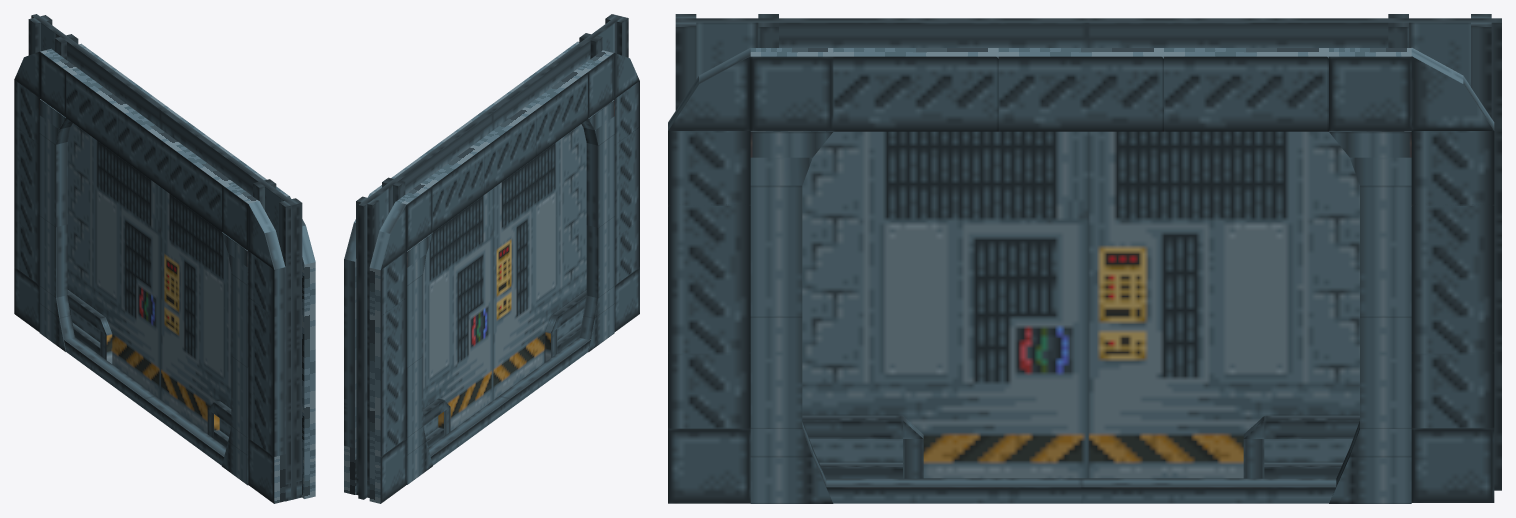
Rendered from door.fbx.
3 renders of one model, left to right at view 1: azimuth 30°, elevation 25°; view 2: azimuth 150°, elevation 25°; view 3: azimuth 270°, elevation 25°, orthographic. The views are drawn at different scales.
Visible parts, largest first — view 1: doorframe, cube_4, cube_5, doorframe_1, cube_1, cube, cube_3; view 2: doorframe, cube_5, cube_4, doorframe_1, cube, cube_1, cube_2; view 3: doorframe_1, cube_5, cube_4, cube_3, cube_2.
Boxes of the visible parts, bbox=[...] form: doorframe: bbox=[14, 48, 285, 503]; cube_4: bbox=[31, 14, 166, 399]; cube_5: bbox=[161, 109, 296, 499]; doorframe_1: bbox=[78, 43, 315, 498]; cube_1: bbox=[207, 182, 290, 501]; cube: bbox=[28, 17, 112, 363]; cube_3: bbox=[264, 179, 302, 498]; doorframe: bbox=[369, 50, 639, 503]; cube_5: bbox=[488, 15, 622, 399]; cube_4: bbox=[358, 110, 493, 499]; doorframe_1: bbox=[344, 41, 579, 494]; cube: bbox=[367, 180, 450, 497]; cube_1: bbox=[545, 17, 628, 361]; cube_2: bbox=[356, 177, 393, 494]; doorframe_1: bbox=[668, 47, 1494, 503]; cube_5: bbox=[675, 18, 1088, 478]; cube_4: bbox=[1088, 18, 1501, 490]; cube_3: bbox=[675, 22, 923, 478]; cube_2: bbox=[1243, 22, 1491, 478].
Bounding box in the file's own units: 44.67 × 313 × 505.
Materials: 4 (4 with a texture image).
